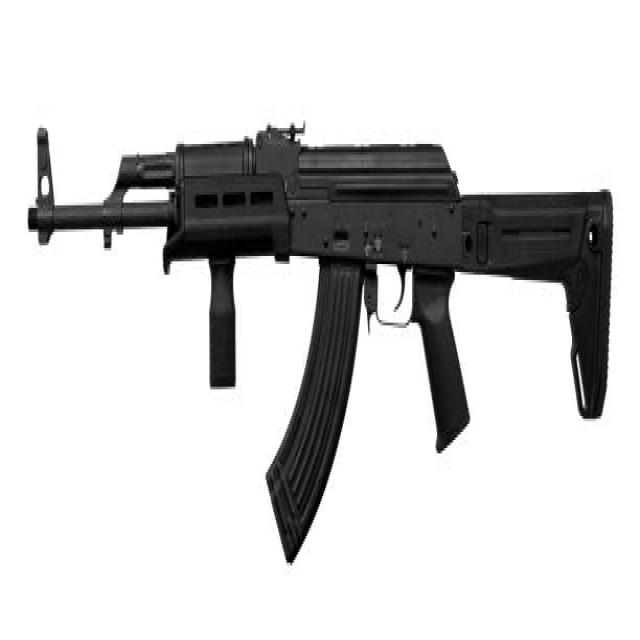rifle: (24, 108, 616, 573)
